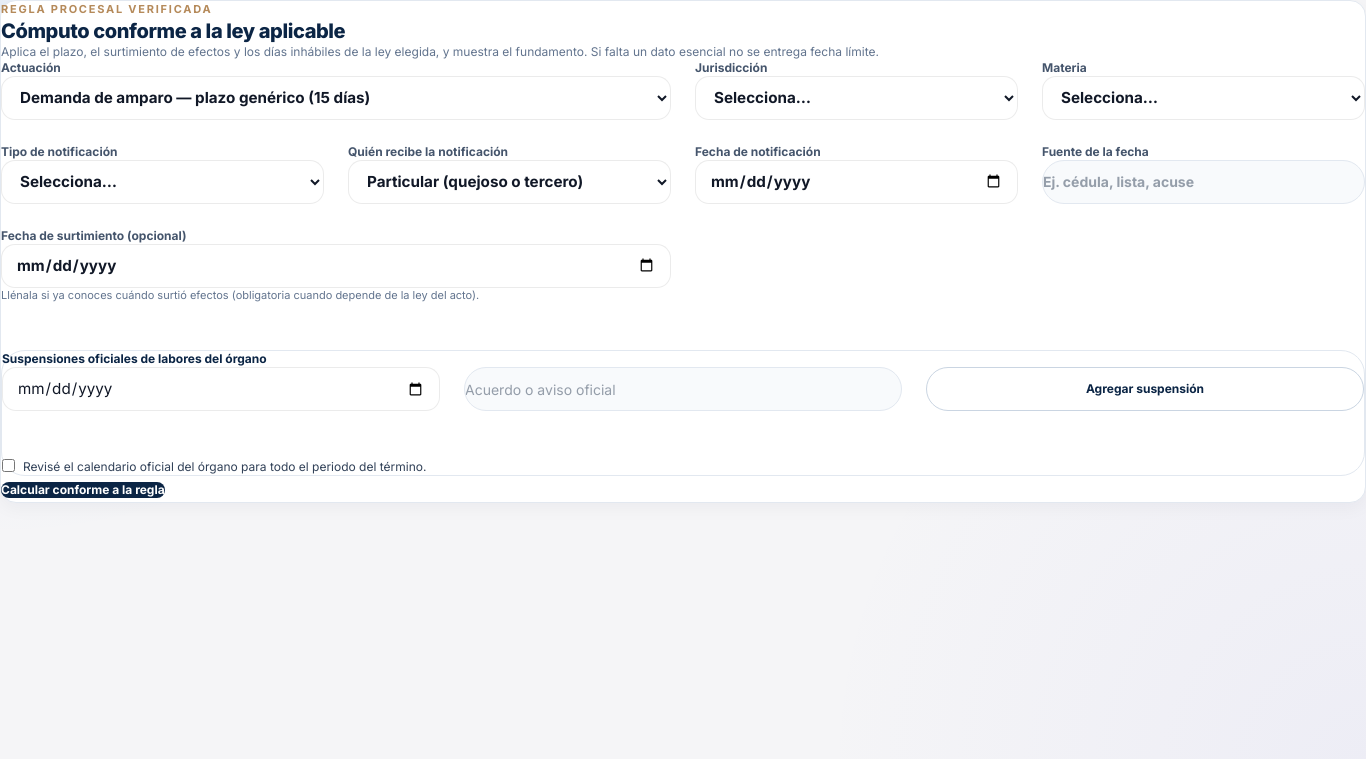
Test: ProceduralTermCalculator › sin fecha de notificación no entrega fecha límite y dice qué falta
The image size is (1366, 759).
Select "Recurso de revisión en amparo (10 días)" in the dropdown labelled "Actuación": (336, 98) [1, 76, 671, 120]
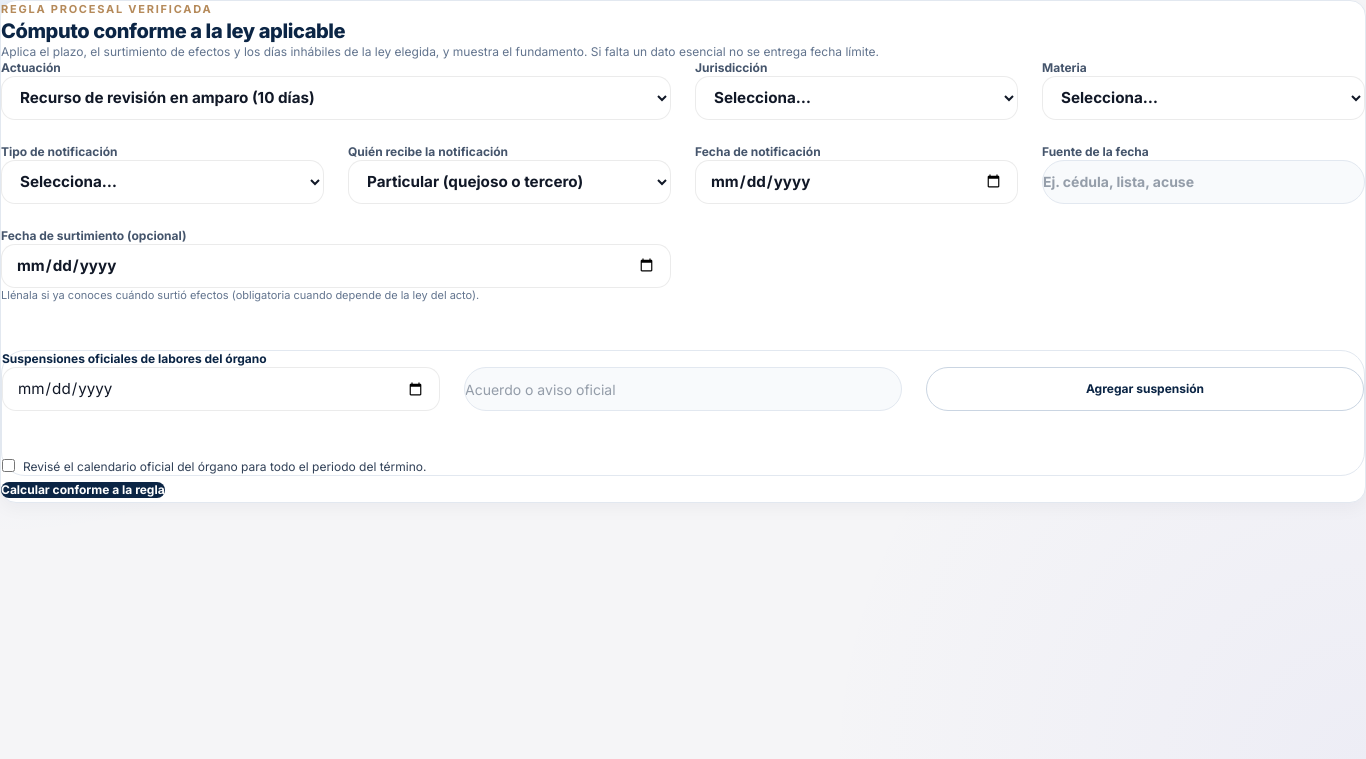
Select "Federal" in the dropdown labelled "Jurisdicción": (856, 98) [695, 76, 1018, 120]
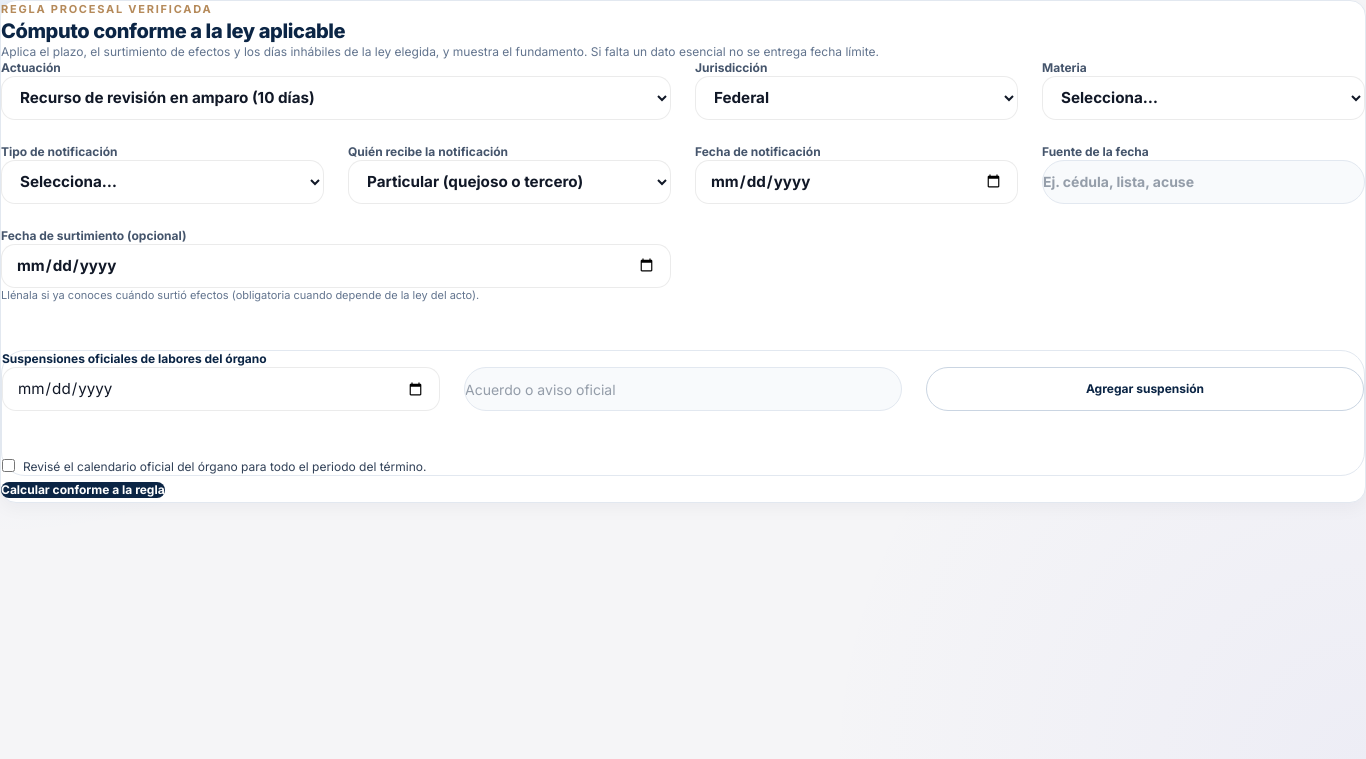
Select "Civil" in the dropdown labelled "Materia": (1204, 98) [1042, 76, 1365, 120]
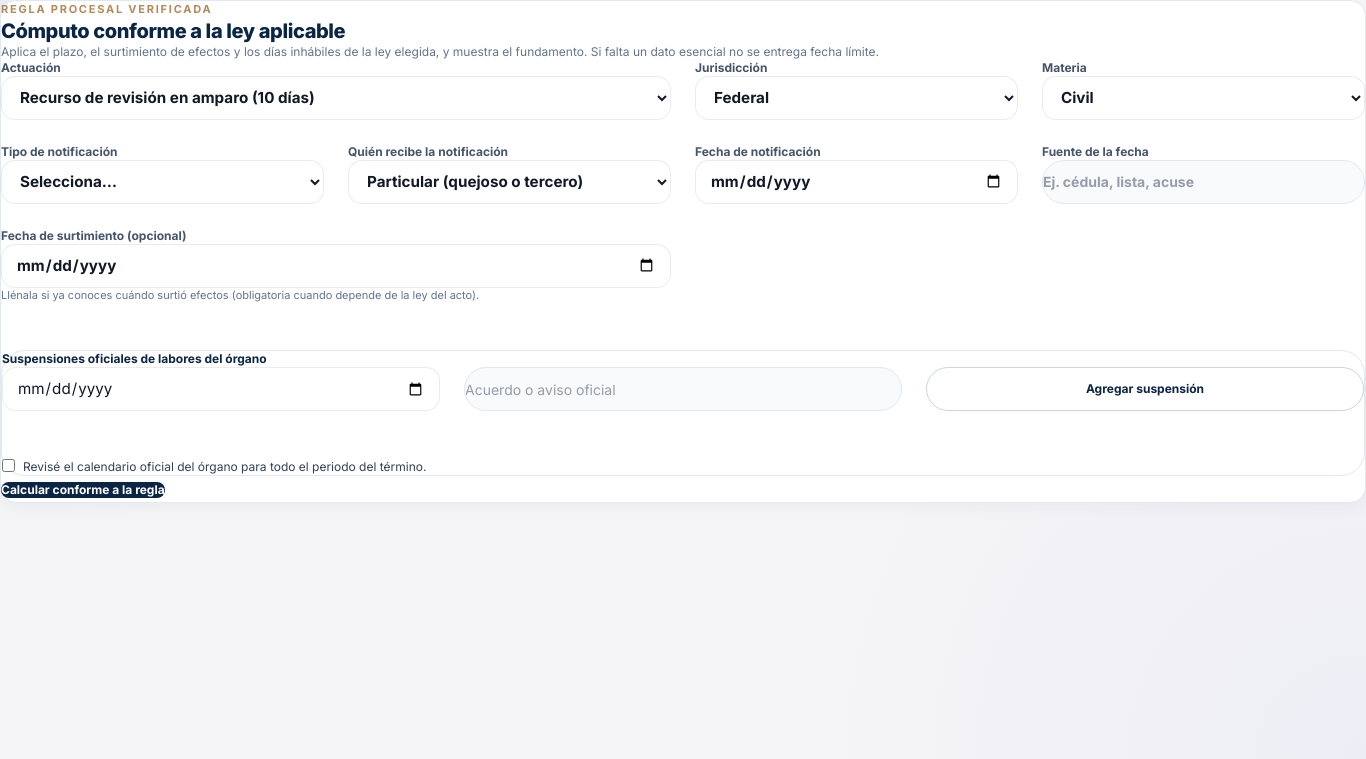
Select "Personal" in the dropdown labelled "Tipo de notificación": (162, 182) [1, 160, 324, 204]
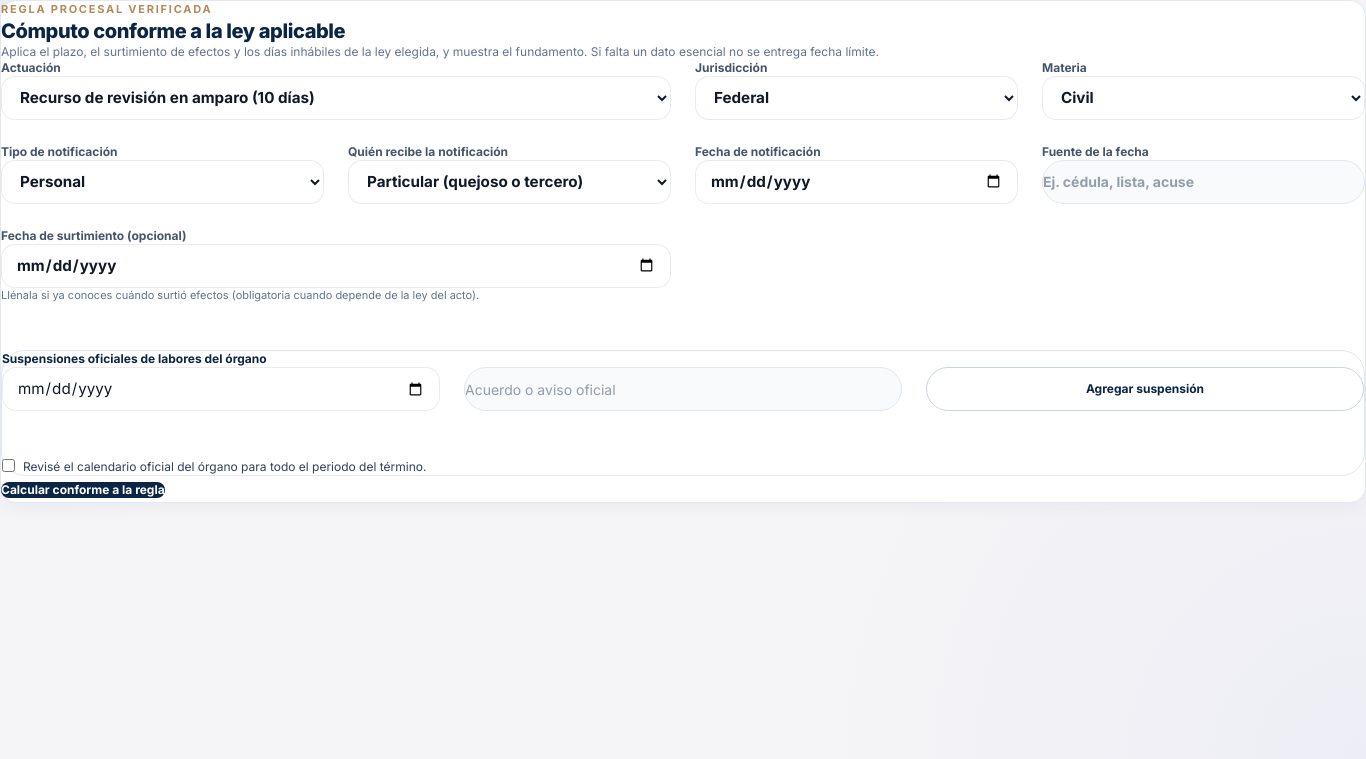
Click the button "Calcular conforme a la regla": click(83, 490) [1, 482, 165, 498]
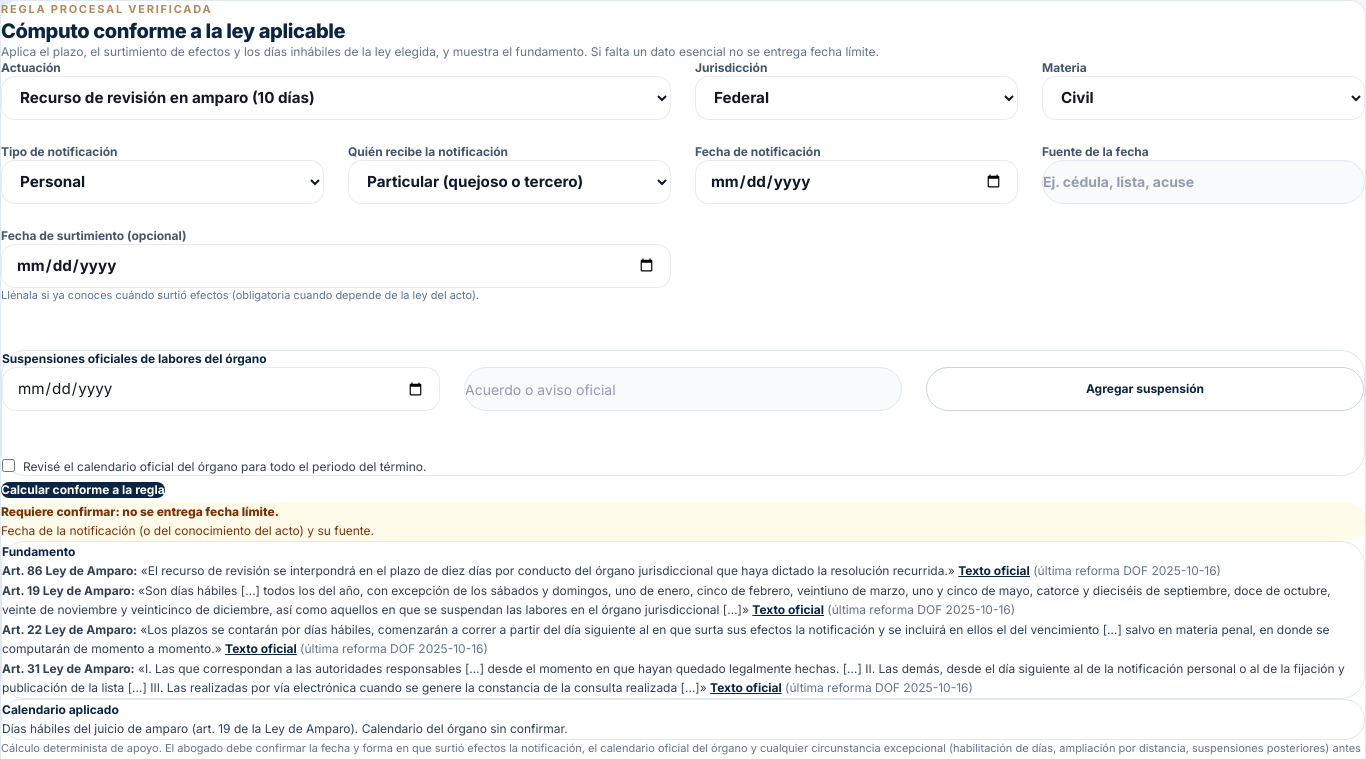
Now the text "Requiere confirmar: no se entrega fecha límite." is shown, box [1, 504, 279, 519]
Now the list item "Fecha de la notificación" is shown, box [1, 523, 374, 538]
